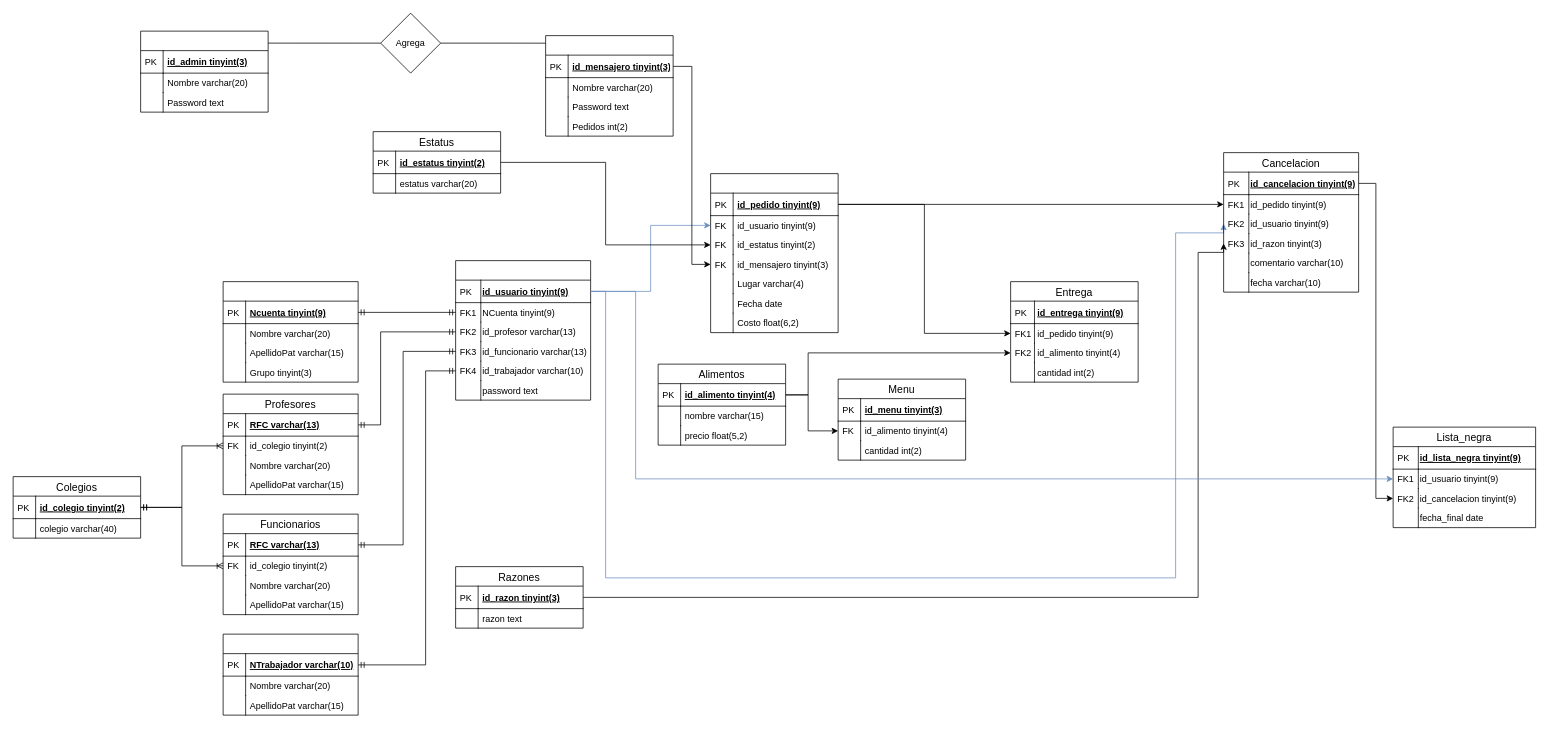
The diagram is 1549 pixels wide and 731 high, and some of its shapes have lost their labels. Each missing label, with the box of its shape:
Administradores: (140, 30, 268, 112)
Alumnos: (222, 281, 358, 382)
Mensajeros: (545, 35, 673, 136)
Pedidos: (710, 173, 838, 333)
Trabajadores: (222, 633, 358, 715)
Usuarios: (455, 260, 591, 400)
